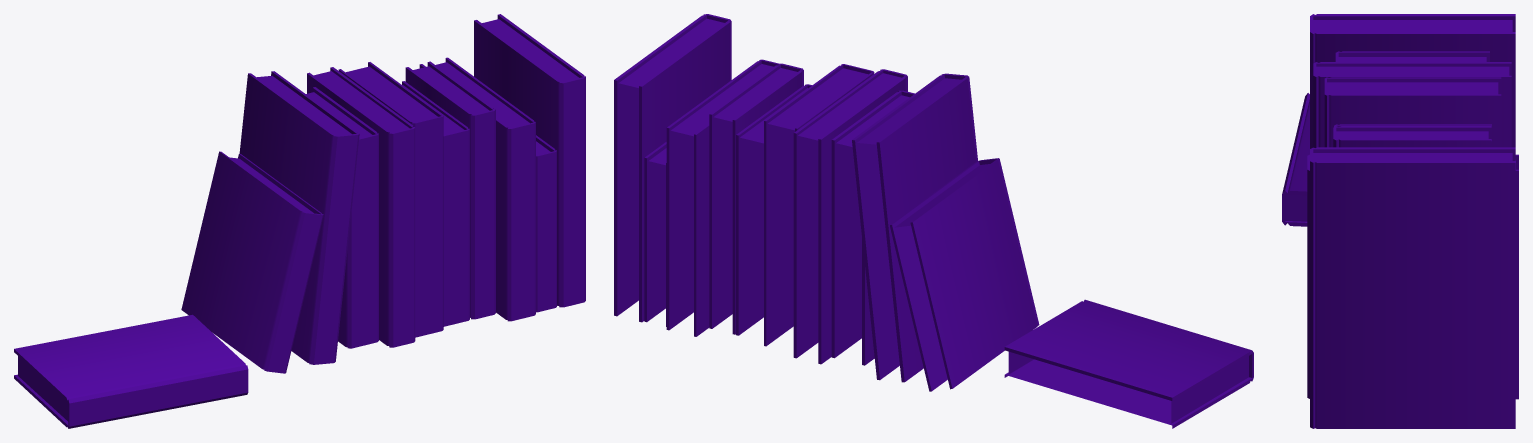
Rendered from HalloweenRoomA_BooksK.fbx.
3 renders of one model, left to right at view 1: azimuth 30°, elevation 25°; view 2: azimuth 150°, elevation 25°; view 3: azimuth 270°, elevation 25°, orthographic. The views are drawn at different scales.
Parts seen in each view (by area): view 1: HalloweenRoomA_BooksK; view 2: HalloweenRoomA_BooksK; view 3: HalloweenRoomA_BooksK.
Boxes of the visible parts, left/top/right/bottom form: HalloweenRoomA_BooksK: left=14, top=14, right=585, bottom=428; HalloweenRoomA_BooksK: left=614, top=14, right=1253, bottom=428; HalloweenRoomA_BooksK: left=1282, top=14, right=1518, bottom=428.
Size of the model in its own units: 66.57 by 27.75 by 22.12.
